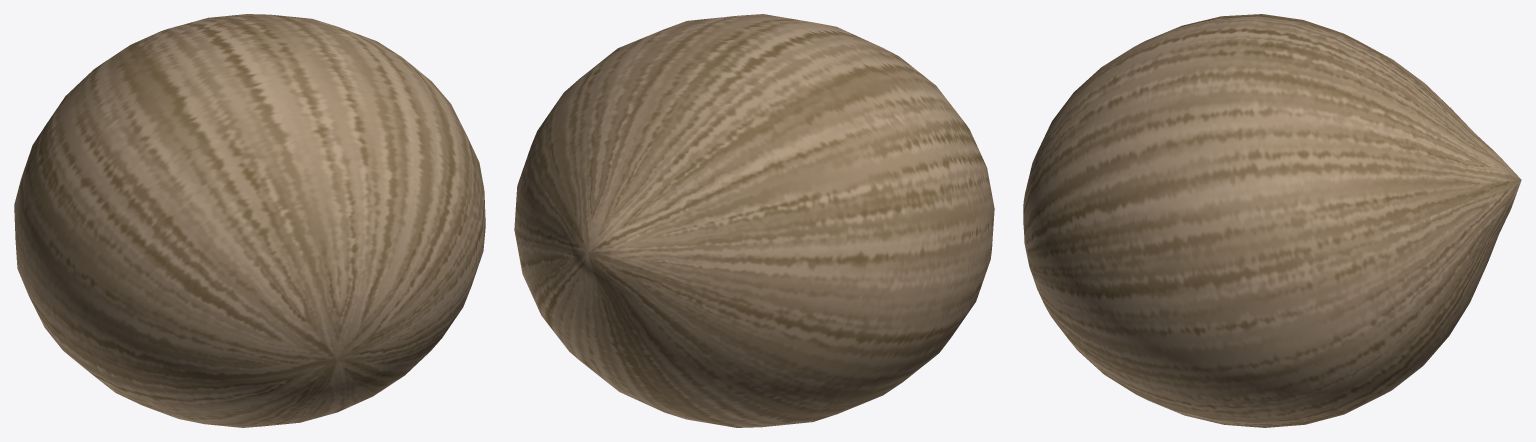
Rendered from PR_onionSmall_01.fbx.
3 renders of one model, left to right at view 1: azimuth 30°, elevation 25°; view 2: azimuth 150°, elevation 25°; view 3: azimuth 270°, elevation 25°, orthographic.
Visible parts, largest first — view 1: smallOnion; view 2: smallOnion; view 3: smallOnion.
Part boxes in pixels (bbox=[...]): smallOnion: bbox=[14, 14, 485, 427]; smallOnion: bbox=[514, 14, 994, 427]; smallOnion: bbox=[1023, 14, 1521, 427].
Size of the model in its own units: 882 by 735 by 921.
Materials: 1 (1 with a texture image).
